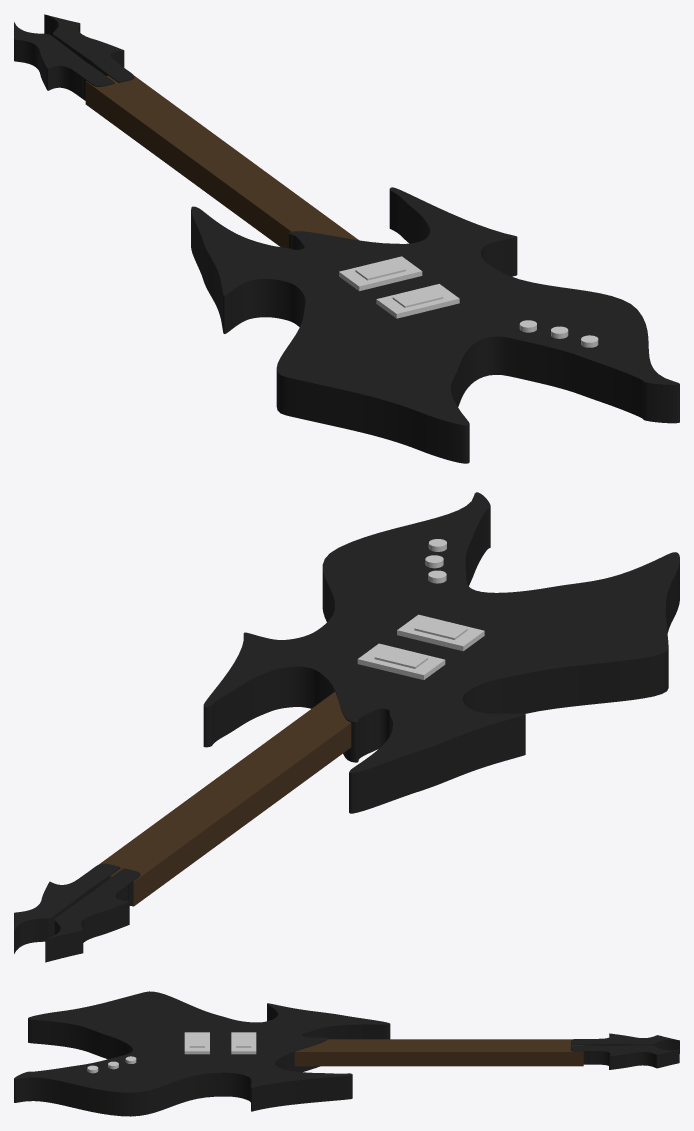
Rendered from guitar4.fbx.
3 renders of one model, top to bottom at view 1: azimuth 30°, elevation 25°; view 2: azimuth 150°, elevation 25°; view 3: azimuth 270°, elevation 25°, orthographic. The views are drawn at different scales.
Parts seen in each view (by area): view 1: BezierCurve, Cube_005, BezierCurve_002, BezierCurve_001, Cube_004, Cube; view 2: BezierCurve, Cube_005, BezierCurve_002, BezierCurve_001, Cube_004, Cube; view 3: BezierCurve, Cube_005, BezierCurve_001, BezierCurve_002, Cube_004, Cube.
Part boxes in pixels (box(x1,y1,x2,y2)): BezierCurve: box(191, 187, 679, 463); Cube_005: box(85, 75, 358, 248); BezierCurve_002: box(14, 22, 114, 100); BezierCurve_001: box(44, 14, 134, 82); Cube_004: box(376, 284, 459, 318); Cube: box(339, 256, 422, 291); BezierCurve: box(203, 492, 679, 813); Cube_005: box(99, 692, 351, 906); BezierCurve_002: box(45, 868, 140, 962); BezierCurve_001: box(14, 863, 120, 953); Cube_004: box(397, 614, 484, 651); Cube: box(357, 643, 445, 679); BezierCurve: box(14, 991, 390, 1116); Cube_005: box(294, 1039, 583, 1066); BezierCurve_001: box(570, 1045, 679, 1069); BezierCurve_002: box(571, 1033, 679, 1053); Cube_004: box(184, 1032, 209, 1054); Cube: box(231, 1032, 256, 1054).
Size of the model in its own units: 4.22 by 0.5402 by 11.72.
